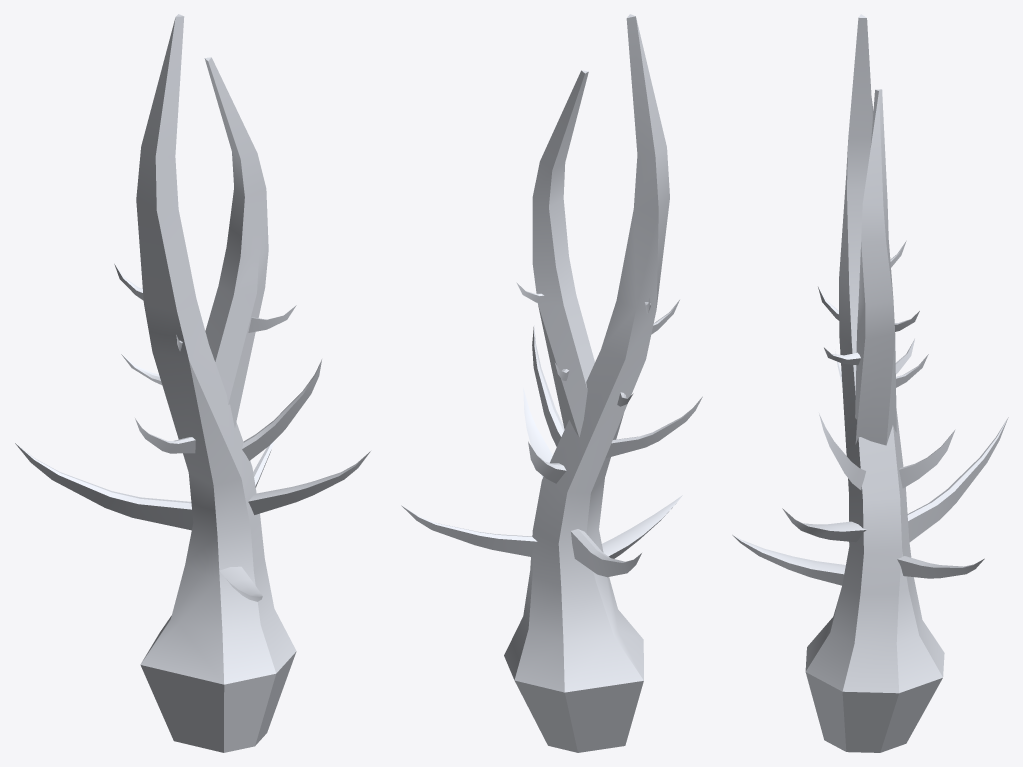
The model's file is tree5.fbx.
3 views of the same model, side by side, from view 1: azimuth 30°, elevation 25°; view 2: azimuth 150°, elevation 25°; view 3: azimuth 270°, elevation 25° (orthographic). The views are drawn at different scales.
Parts seen in each view (by area): view 1: tree; view 2: tree; view 3: tree.
Part boxes in pixels (box(x1,y1,x2,y2)): tree: box(15, 14, 370, 752); tree: box(401, 14, 702, 752); tree: box(732, 14, 1008, 752).
Size of the model in its own units: 3175 by 8685 by 3115.
1 material, 1 textured.
